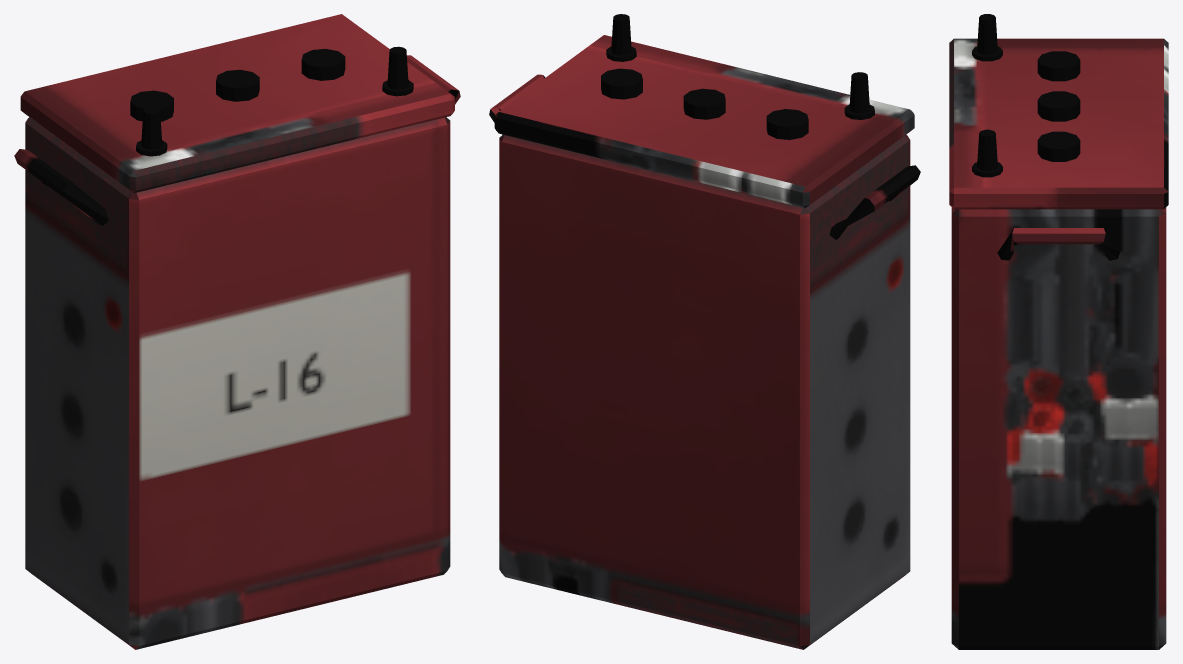
File: RenewableEnergy_L16Battery.fbx
3 renders of one model, left to right at view 1: azimuth 30°, elevation 25°; view 2: azimuth 150°, elevation 25°; view 3: azimuth 270°, elevation 25°, orthographic. The views are drawn at different scales.
Visible parts, largest first — view 1: L16Battery; view 2: L16Battery; view 3: L16Battery.
Part boxes in pixels (<box>): L16Battery: <box>14,14,460,649</box>; L16Battery: <box>489,14,920,649</box>; L16Battery: <box>949,14,1168,649</box>.
Size of the model in its own units: 0.3728 by 0.465 by 0.184.
